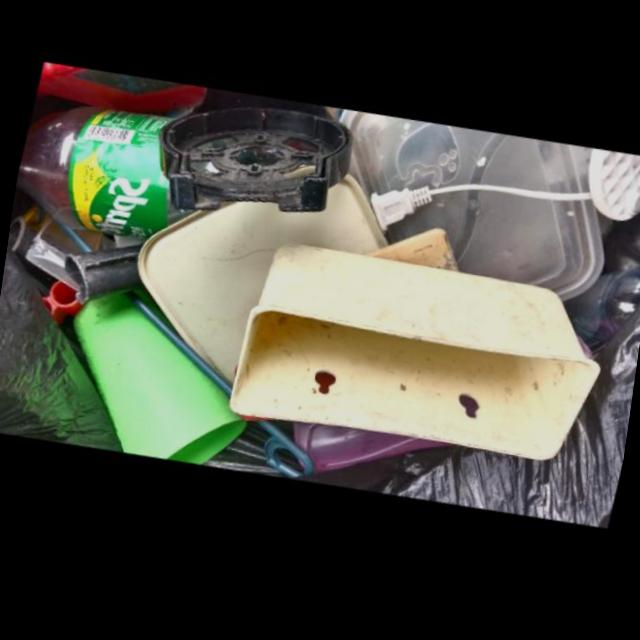chai_nhua_pet: (16, 106, 186, 241)
hop_nhua: (225, 249, 597, 470), (71, 293, 244, 467)
